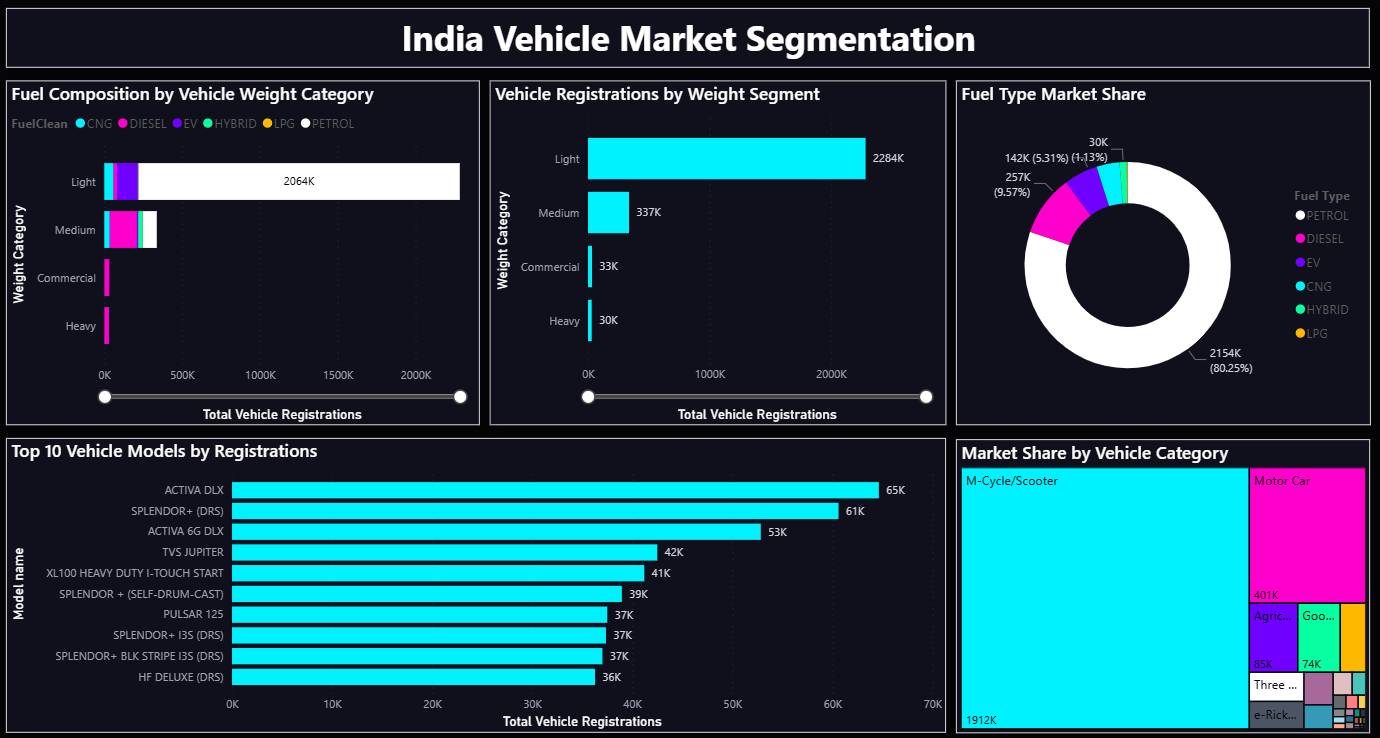

What the dashboard file says about the page in this screenshot:
{"tool":"powerbi","page":{"name":"India Vehicle Market Segmentation","canvas":[1490,800],"ordinal":2},"visuals":[{"type":"clusteredBarChart","title":"Vehicle Registrations by Weight Segment","fields":{"Category":["vehicle_registrations_500k.Weight Category"],"Y":["Sum(vehicle_registrations_500k.vehicleCount)"]},"box":[529.5,88.5,489.3,370],"z":0},{"type":"textbox","box":[10.7,10.7,1462.5,64.3],"z":1000},{"type":"barChart","title":"Fuel Composition by Vehicle Weight Category","fields":{"Category":["vehicle_registrations_500k.Weight Category"],"Y":["Sum(vehicle_registrations_500k.vehicleCount)"],"Series":["vehicle_registrations_500k.FuelClean"]},"box":[10.7,88.5,508,370],"z":2000},{"type":"barChart","title":"Top 10 Vehicle Models by Registrations","fields":{"Category":["vehicle_registrations_500k.vehicleModelName"],"Y":["Sum(vehicle_registrations_500k.vehicleCount)"]},"box":[10.7,471.9,1008,316.4],"z":3000},{"type":"donutChart","title":"Fuel Type Market Share","fields":{"Category":["vehicle_registrations_500k.FuelClean"],"Y":["Sum(vehicle_registrations_500k.vehicleCount)"]},"box":[1029.5,88.5,445,370],"z":4000},{"type":"treemap","title":"Market Share by Vehicle Category","fields":{"Group":["vehicle_registrations_500k.vehicleClassName"],"Values":["Sum(vehicle_registrations_500k.vehicleCount)"]},"box":[1029.5,473.2,443.7,315],"z":5000}]}

Visuals, with their boxes in screenshot pixels (x1, y1, x2, y2), scaled from the page's 1490x800 canvas onto the 1380x738 screenshot:
"Vehicle Registrations by Weight Segment" clusteredBarChart: 490,82,944,423
textbox: 10,10,1364,69
"Fuel Composition by Vehicle Weight Category" barChart: 10,82,480,423
"Top 10 Vehicle Models by Registrations" barChart: 10,435,943,727
"Fuel Type Market Share" donutChart: 953,82,1366,423
"Market Share by Vehicle Category" treemap: 953,437,1364,727
